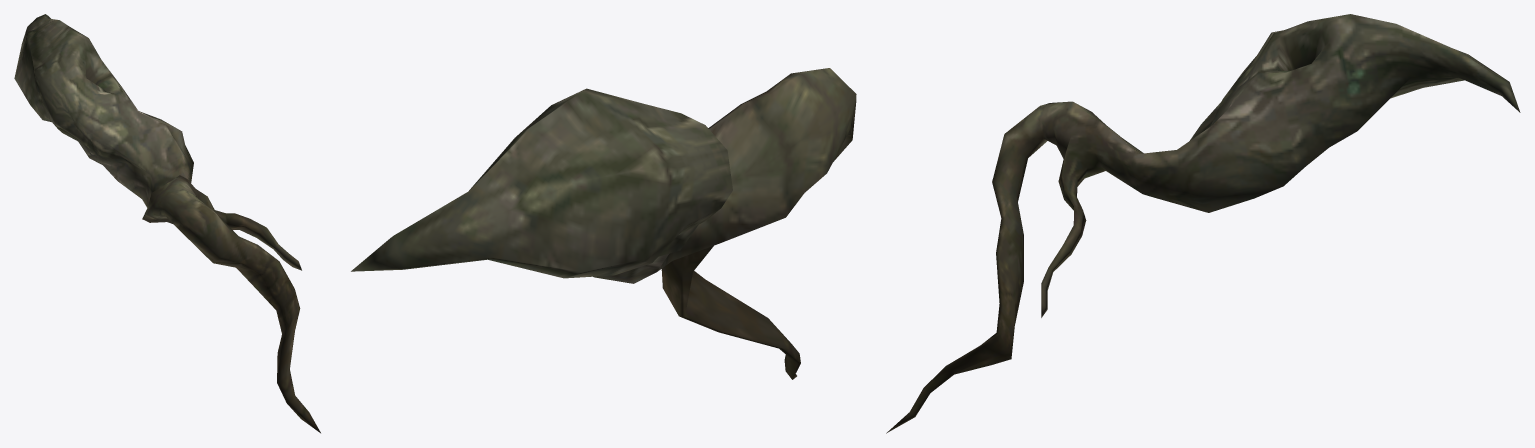
Rendered from hfjord_roots_03.obj.
The picture shows the model from 3 angles, left to right: view 1: azimuth 30°, elevation 25°; view 2: azimuth 150°, elevation 25°; view 3: azimuth 270°, elevation 25°; orthographic projection. The views are drawn at different scales.
Parts seen in each view (by area): view 1: hfjord_roots_03; view 2: hfjord_roots_03; view 3: hfjord_roots_03.
Part boxes in pixels (x1,y1,x2,y2): hfjord_roots_03: (14, 14, 320, 433); hfjord_roots_03: (351, 68, 856, 379); hfjord_roots_03: (886, 14, 1520, 433).
Size of the model in its own units: 7.86 by 13.75 by 21.08.
